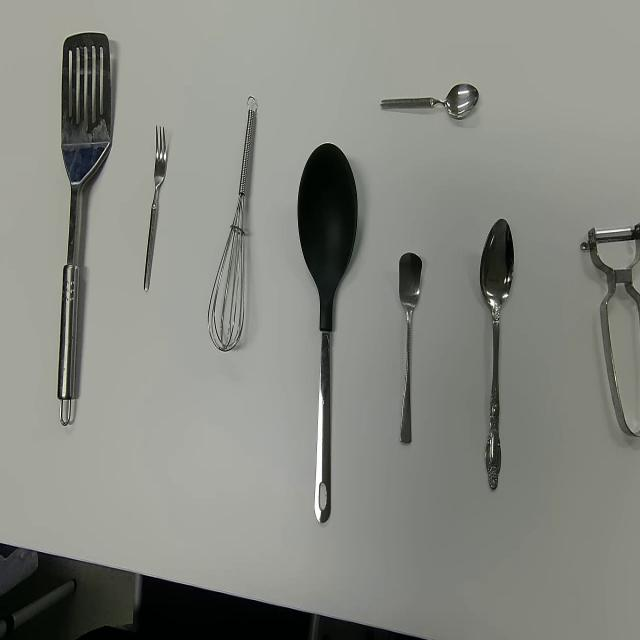Desert-Spoon: (479, 217, 515, 492)
Dinner-Fork: (143, 124, 167, 294)
Peeler: (579, 221, 640, 439)
Serving-Spoon: (297, 140, 359, 524), (56, 30, 112, 428)
Tea-Spoon: (398, 250, 422, 445), (380, 81, 480, 119)
Whisk: (207, 94, 258, 352)
